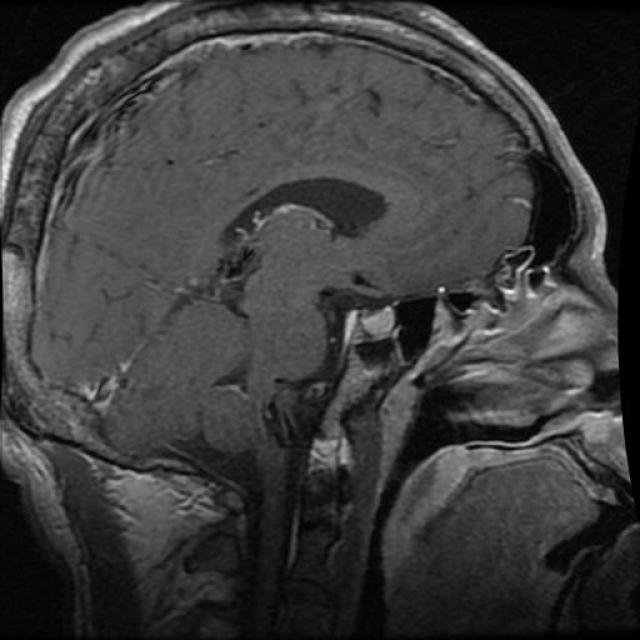pituitary: (321, 284, 421, 374)
